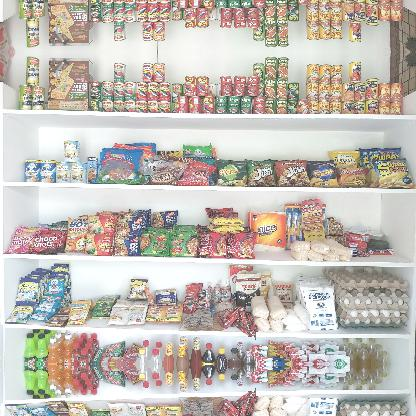Koko-Krunch: (48, 58, 92, 110), (47, 0, 93, 47)
